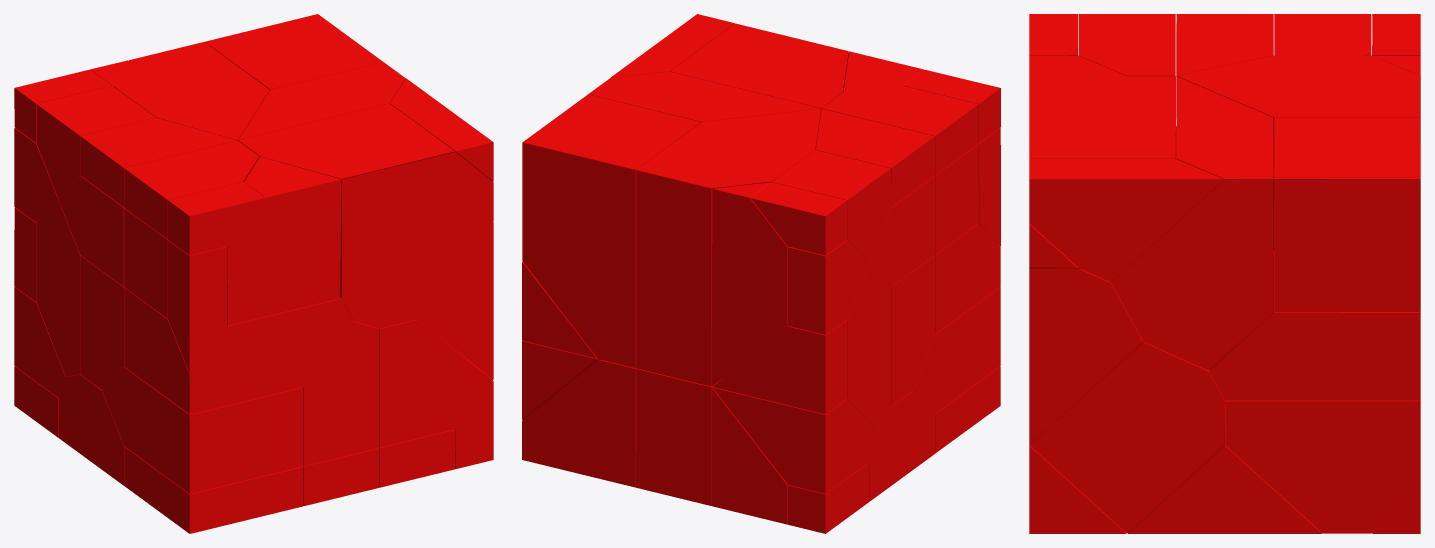
The model's file is crashBox.fbx.
3 renders of one model, left to right at view 1: azimuth 30°, elevation 25°; view 2: azimuth 150°, elevation 25°; view 3: azimuth 270°, elevation 25°, orthographic. The views are drawn at different scales.
Parts seen in each view (by area): view 1: Cube__1__cell.018, Cube__1__cell.040, Cube__1__cell, Cube__1__cell.045, Cube__1__cell.011, Cube__1__cell.027, Cube__1__cell.021, Cube__1__cell.042, Cube__1__cell.019, Cube__1__cell.020, Cube__1__cell.022, Cube__1__cell.041 (+22 smaller); view 2: Cube__1__cell.048, Cube__1__cell.047, Cube__1__cell.010, Cube__1__cell.003, Cube__1__cell.011, Cube__1__cell.030, Cube__1__cell.015, Cube__1__cell.027, Cube__1__cell.024, Cube__1__cell.019, Cube__1__cell.020, Cube__1__cell.028 (+20 smaller); view 3: Cube__1__cell.037, Cube__1__cell.005, Cube__1__cell.031, Cube__1__cell.043, Cube__1__cell.004, Cube__1__cell.046, Cube__1__cell.041, Cube__1__cell.011, Cube__1__cell.027, Cube__1__cell.019, Cube__1__cell.007, Cube__1__cell.028 (+10 smaller).
Part boxes in pixels (x1,y1,x2,y2): Cube__1__cell.018: (340,152,493,328); Cube__1__cell.040: (227,156,341,325); Cube__1__cell: (190,298,353,414); Cube__1__cell.045: (378,319,492,447); Cube__1__cell.011: (113,42,269,140); Cube__1__cell.027: (238,103,454,179); Cube__1__cell.021: (190,387,303,493); Cube__1__cell.042: (303,321,379,465); Cube__1__cell.019: (205,14,382,90); Cube__1__cell.020: (124,140,259,239); Cube__1__cell.022: (102,367,190,493); Cube__1__cell.041: (417,222,493,379); Cube__1__cell.048: (522,143,636,368); Cube__1__cell.047: (636,170,712,386); Cube__1__cell.010: (712,182,788,385); Cube__1__cell.003: (522,359,636,487); Cube__1__cell.011: (637,108,820,189); Cube__1__cell.030: (712,387,876,493); Cube__1__cell.015: (636,368,720,505); Cube__1__cell.027: (670,23,848,111); Cube__1__cell.024: (713,320,847,414); Cube__1__cell.019: (523,94,700,170); Cube__1__cell.020: (822,86,978,175); Cube__1__cell.028: (588,71,819,122); Cube__1__cell.037: (1030,341,1224,533); Cube__1__cell.005: (1225,400,1420,533); Cube__1__cell.031: (1111,180,1273,370); Cube__1__cell.043: (1274,179,1420,311); Cube__1__cell.004: (1209,251,1420,400); Cube__1__cell.046: (1029,159,1223,282); Cube__1__cell.041: (1029,268,1142,444); Cube__1__cell.011: (1176,55,1419,249); Cube__1__cell.027: (1029,76,1175,158); Cube__1__cell.019: (1274,117,1420,196); Cube__1__cell.007: (1128,425,1321,533); Cube__1__cell.028: (1176,76,1273,249).
Bounding box in the file's own units: 100 × 100 × 100.
